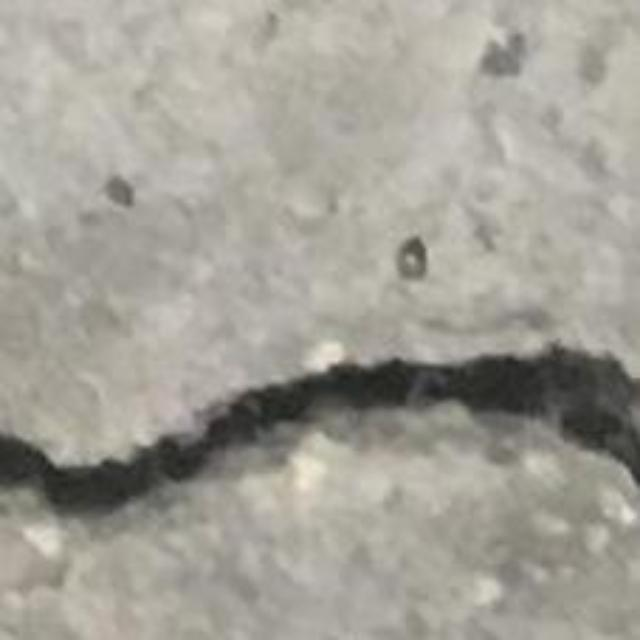crack: (0, 344, 639, 530)
